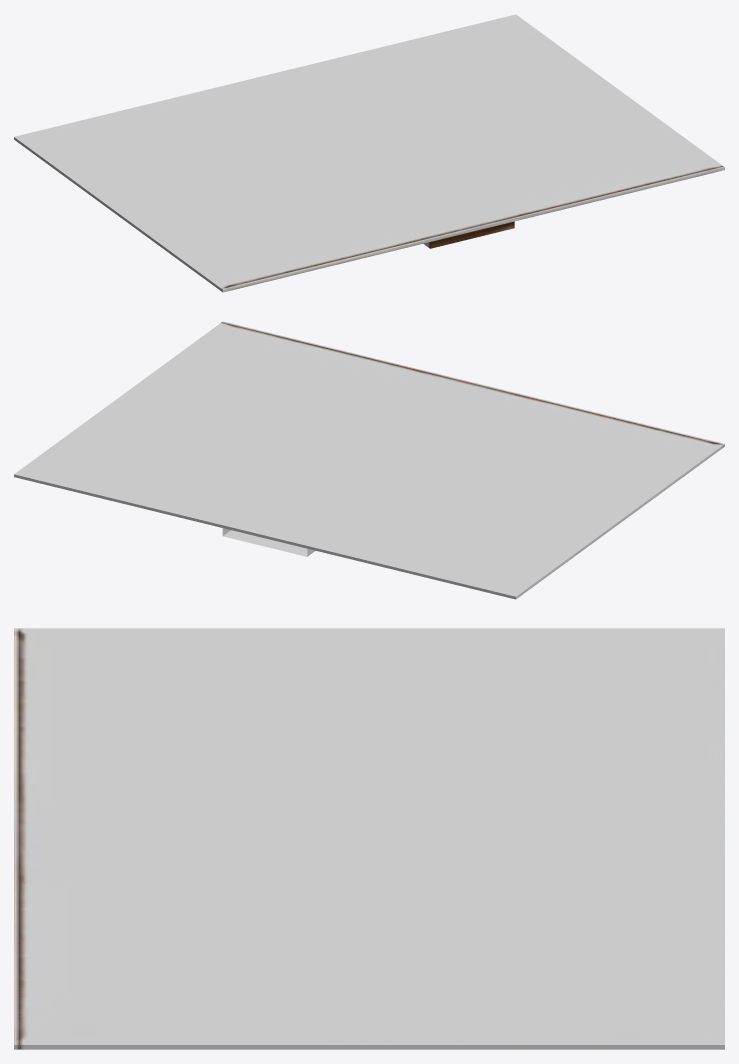
The model's file is link_1__drawer_bottom-141.glb.
3 renders of one model, top to bottom at view 1: azimuth 30°, elevation 25°; view 2: azimuth 150°, elevation 25°; view 3: azimuth 270°, elevation 25°, orthographic. The views are drawn at different scales.
Parts seen in each view (by area): view 1: geometry_0; view 2: geometry_0; view 3: geometry_0.
Part boxes in pixels (<box>): geometry_0: <box>14,14,724,292</box>; geometry_0: <box>14,321,724,599</box>; geometry_0: <box>14,628,724,1049</box>.
Bounding box in the file's own units: 0.4989 × 0.0105 × 0.3597.
1 material, 1 textured.
